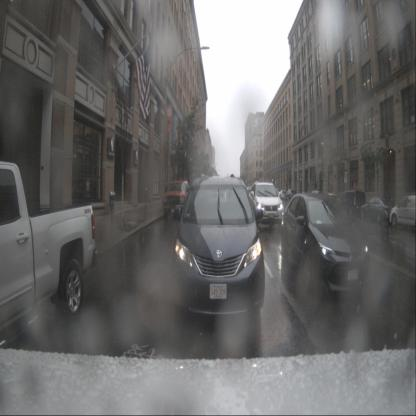vehicle-car: (170, 176, 265, 323), (282, 193, 370, 297), (249, 181, 285, 232), (164, 180, 191, 220), (359, 197, 393, 224), (389, 194, 416, 228), (338, 190, 366, 216), (284, 189, 298, 202), (278, 190, 288, 200)
vehicle-truck: (0, 159, 99, 351)
